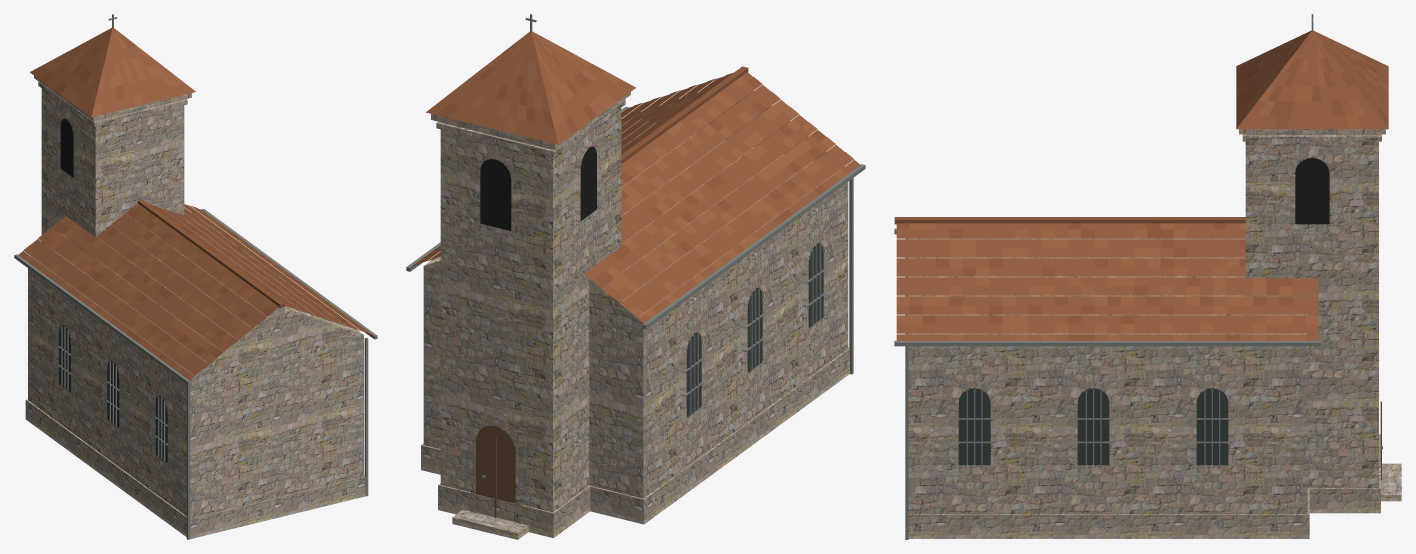
Rendered from church.glb.
The picture shows the model from 3 angles, left to right: view 1: azimuth 30°, elevation 25°; view 2: azimuth 150°, elevation 25°; view 3: azimuth 270°, elevation 25°; orthographic projection. The views are drawn at different scales.
Parts seen in each view (by area): view 1: stone, roof, tile-light, foundation, metal, tile-dark, trim, glass, shadow; view 2: stone, roof, tile-light, foundation, trim, metal, tile-dark, shadow, wood, glass; view 3: stone, roof, tile-light, foundation, tile-dark, trim, glass, metal, shadow.
Part boxes in pixels (x1,y1,x2,y2): stone: (28, 88, 363, 518); roof: (18, 28, 372, 380); tile-light: (23, 28, 360, 372); foundation: (25, 399, 365, 538); metal: (14, 14, 377, 539); tile-dark: (40, 28, 349, 360); trim: (34, 76, 191, 465); glass: (59, 325, 167, 462); shadow: (60, 118, 73, 177); stone: (423, 91, 848, 512); roof: (411, 31, 860, 323); tile-light: (418, 31, 846, 318); foundation: (421, 347, 849, 537); trim: (431, 92, 827, 539); metal: (406, 14, 865, 478); tile-dark: (437, 32, 826, 287); shadow: (480, 146, 596, 230); wood: (476, 425, 515, 517); glass: (686, 243, 823, 417); stone: (908, 134, 1378, 513); roof: (894, 30, 1388, 340); tile-light: (896, 31, 1388, 340); foundation: (908, 434, 1380, 538); tile-dark: (896, 33, 1388, 340); trim: (953, 129, 1401, 501); glass: (958, 388, 1228, 465); metal: (894, 14, 1382, 539); shadow: (1295, 157, 1329, 224).
Size of the model in its own units: 5.67 by 10.94 by 10.67.
10 materials, 3 textured.
